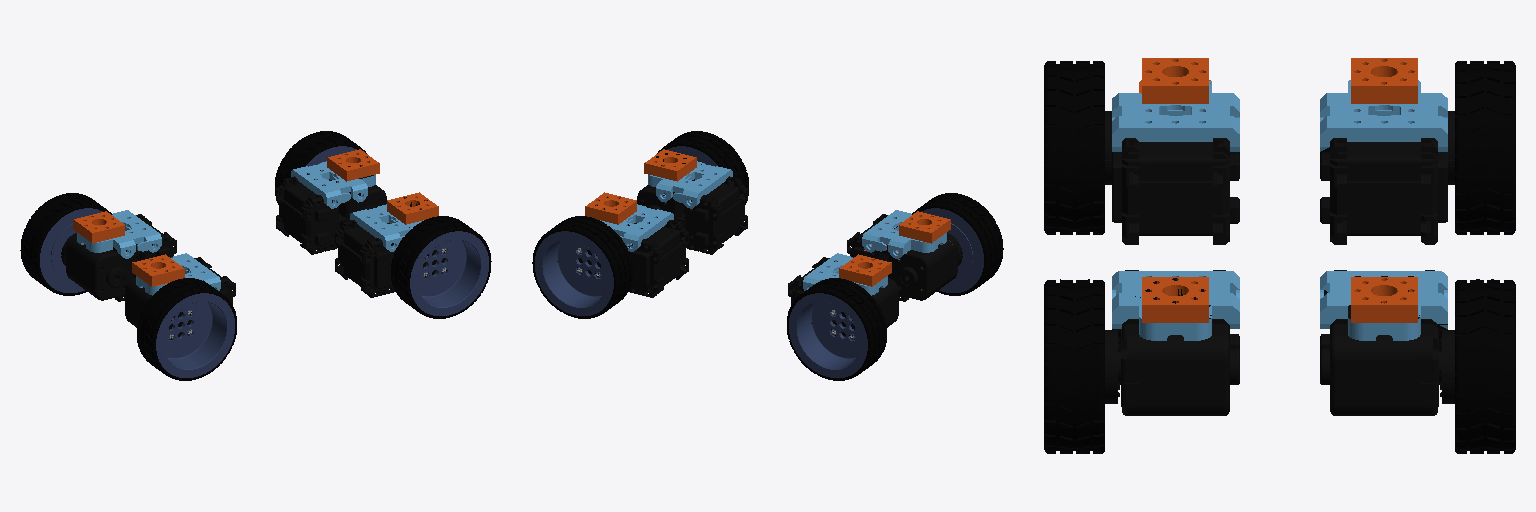
robot.urdf — rs_robot:
<?xml version="1.0" ?>
<!-- =================================================================================== -->
<!-- |    This document was autogenerated by xacro from fourth_robot.urdf.xacro        | -->
<!-- |    EDITING THIS FILE BY HAND IS NOT RECOMMENDED                                 | -->
<!-- =================================================================================== -->
<robot name="rs_robot">
  <!-- =============== Link & Joint =============== -->
  <!-- Base -->
  <link name="base_footprint"/>
  <joint name="base_link_joint" type="fixed">
    <origin xyz="0 0 0"/>
    <parent link="base_footprint"/>
    <child link="base_link"/>
  </joint>
  <link name="base_link">
    <visual>
      <geometry>
        <mesh filename="package://rs_robot_pkg/meshes/DAE/base/base_link.dae"/>
      </geometry>
    </visual>
    <collision>
      <geometry>
        <mesh filename="package://rs_robot_pkg/meshes/STL/base/base_link.stl"/>
      </geometry>
    </collision>
    <inertial>
      <origin xyz="0 0 0.017"/>
      <mass value="1.2"/>
      <inertia ixx="0.0001873" ixy="0" ixz="0" iyy="0.000055" iyz="0" izz="0.0002283"/>
    </inertial>
  </link>
  <joint name="fr_steering_joint" type="revolute">
    <origin xyz="0.077 -0.031 -0.004"/>
    <parent link="base_link"/>
    <child link="fr_steering_link"/>
    <limit effort="5" lower="-2.1" upper="2.1" velocity="6.28"/>
    <axis xyz="0 0 1"/>
  </joint>
  <link name="fr_steering_link">
    <visual>
      <geometry>
        <mesh filename="package://rs_robot_pkg/meshes/DAE/suspension/front_right_link.dae"/>
      </geometry>
    </visual>
    <collision>
      <geometry>
        <mesh filename="package://rs_robot_pkg/meshes/STL/suspension/sus_link.stl"/>
      </geometry>
    </collision>
    <inertial>
      <origin xyz="0 0 -0.02"/>
      <mass value="0.15"/>
      <inertia ixx="0.00001" ixy="0" ixz="0" iyy="0.00001" iyz="0" izz="0.000004"/>
    </inertial>
  </link>
  <joint name="fl_steering_joint" type="revolute">
    <origin xyz="0.077 0.031 -0.004"/>
    <parent link="base_link"/>
    <child link="fl_steering_link"/>
    <limit effort="5" lower="-2.1" upper="2.1" velocity="6.28"/>
    <axis xyz="0 0 1"/>
  </joint>
  <link name="fl_steering_link">
    <visual>
      <geometry>
        <mesh filename="package://rs_robot_pkg/meshes/DAE/suspension/front_left_link.dae"/>
      </geometry>
    </visual>
    <collision>
      <geometry>
        <mesh filename="package://rs_robot_pkg/meshes/STL/suspension/sus_link.stl"/>
      </geometry>
    </collision>
    <inertial>
      <origin xyz="0 0 -0.02"/>
      <mass value="0.15"/>
      <inertia ixx="0.00001" ixy="0" ixz="0" iyy="0.00001" iyz="0" izz="0.000004"/>
    </inertial>
  </link>
  <joint name="rr_steering_joint" type="revolute">
    <origin xyz="-0.077 -0.031 -0.004"/>
    <parent link="base_link"/>
    <child link="rr_steering_link"/>
    <limit effort="5" lower="-2.1" upper="2.1" velocity="6.28"/>
    <axis xyz="0 0 1"/>
  </joint>
  <link name="rr_steering_link">
    <visual>
      <geometry>
        <mesh filename="package://rs_robot_pkg/meshes/DAE/suspension/rear_right_link.dae"/>
      </geometry>
    </visual>
    <collision>
      <geometry>
        <mesh filename="package://rs_robot_pkg/meshes/STL/suspension/sus_link.stl"/>
      </geometry>
    </collision>
    <inertial>
      <origin xyz="0 0 -0.02"/>
      <mass value="0.15"/>
      <inertia ixx="0.00001" ixy="0" ixz="0" iyy="0.00001" iyz="0" izz="0.000004"/>
    </inertial>
  </link>
  <joint name="rl_steering_joint" type="revolute">
    <origin xyz="-0.077 0.031 -0.004"/>
    <parent link="base_link"/>
    <child link="rl_steering_link"/>
    <limit effort="5" lower="-2.1" upper="2.1" velocity="6.28"/>
    <axis xyz="0 0 1"/>
  </joint>
  <link name="rl_steering_link">
    <visual>
      <geometry>
        <mesh filename="package://rs_robot_pkg/meshes/DAE/suspension/rear_left_link.dae"/>
      </geometry>
    </visual>
    <collision>
      <geometry>
        <mesh filename="package://rs_robot_pkg/meshes/STL/suspension/sus_link.stl"/>
      </geometry>
    </collision>
    <inertial>
      <origin xyz="0 0 -0.02"/>
      <mass value="0.15"/>
      <inertia ixx="0.00001" ixy="0" ixz="0" iyy="0.00001" iyz="0" izz="0.000004"/>
    </inertial>
  </link>
  <joint name="fr_wheel_joint" type="continuous">
    <origin xyz="0 -0.021 -0.025"/>
    <parent link="fr_steering_link"/>
    <child link="fr_wheel_link"/>
    <limit effort="1.5" velocity="20"/>
    <axis xyz="0 1 0"/>
  </joint>
  <link name="fr_wheel_link">
    <visual>
      <geometry>
        <mesh filename="package://rs_robot_pkg/meshes/DAE/wheel/wheel_link.dae"/>
      </geometry>
    </visual>
    <collision>
      <geometry>
        <mesh filename="package://rs_robot_pkg/meshes/STL/wheel/robot_wheel.stl"/>
      </geometry>
    </collision>
    <inertial>
      <origin xyz="0.0 -0.007 -0.0"/>
      <mass value="0.05"/>
      <inertia ixx="0.00001" ixy="0" ixz="0" iyy="0.000018" iyz="0" izz="0.00001"/>
    </inertial>
  </link>
  <joint name="fl_wheel_joint" type="continuous">
    <origin rpy="0 0 3.14159274" xyz="0 0.021 -0.025"/>
    <parent link="fl_steering_link"/>
    <child link="fl_wheel_link"/>
    <limit effort="1.5" velocity="20"/>
    <axis xyz="0 -1 0"/>
  </joint>
  <link name="fl_wheel_link">
    <visual>
      <geometry>
        <mesh filename="package://rs_robot_pkg/meshes/DAE/wheel/wheel_link.dae"/>
      </geometry>
    </visual>
    <collision>
      <geometry>
        <mesh filename="package://rs_robot_pkg/meshes/STL/wheel/robot_wheel.stl"/>
      </geometry>
    </collision>
    <inertial>
      <origin xyz="0.0 -0.007 -0.0"/>
      <mass value="0.05"/>
      <inertia ixx="0.00001" ixy="0" ixz="0" iyy="0.000018" iyz="0" izz="0.00001"/>
    </inertial>
  </link>
  <joint name="rr_wheel_joint" type="continuous">
    <origin xyz="0 -0.021 -0.025"/>
    <parent link="rr_steering_link"/>
    <child link="rr_wheel_link"/>
    <limit effort="1.5" velocity="20"/>
    <axis xyz="0 1 0"/>
  </joint>
  <link name="rr_wheel_link">
    <visual>
      <geometry>
        <mesh filename="package://rs_robot_pkg/meshes/DAE/wheel/wheel_link.dae"/>
      </geometry>
    </visual>
    <collision>
      <geometry>
        <mesh filename="package://rs_robot_pkg/meshes/STL/wheel/robot_wheel.stl"/>
      </geometry>
    </collision>
    <inertial>
      <origin xyz="0.0 -0.007 -0.0"/>
      <mass value="0.05"/>
      <inertia ixx="0.00001" ixy="0" ixz="0" iyy="0.000018" iyz="0" izz="0.00001"/>
    </inertial>
  </link>
  <joint name="rl_wheel_joint" type="continuous">
    <origin rpy="0 0 3.14159274" xyz="0 0.021 -0.025"/>
    <parent link="rl_steering_link"/>
    <child link="rl_wheel_link"/>
    <limit effort="1.5" velocity="20"/>
    <axis xyz="0 -1 0"/>
  </joint>
  <link name="rl_wheel_link">
    <visual>
      <geometry>
        <mesh filename="package://rs_robot_pkg/meshes/DAE/wheel/wheel_link.dae"/>
      </geometry>
    </visual>
    <collision>
      <geometry>
        <mesh filename="package://rs_robot_pkg/meshes/STL/wheel/robot_wheel.stl"/>
      </geometry>
    </collision>
    <inertial>
      <origin xyz="0.0 -0.007 -0.0"/>
      <mass value="0.05"/>
      <inertia ixx="0.00001" ixy="0" ixz="0" iyy="0.000018" iyz="0" izz="0.00001"/>
    </inertial>
  </link>

</robot>

--- Facts derived from the render (not from the file) ---
3 views of the same robot in one strip: view 1: azimuth 30°, elevation 25°; view 2: azimuth 150°, elevation 25°; view 3: azimuth 270°, elevation 25° (orthographic).
Model rs_robot with 10 links and 9 joints (4 revolute, 4 continuous, 1 fixed), rooted at base_footprint, posed all joints at 0.
Links seen in each view (by area): view 1: fr_wheel_link, rr_wheel_link, fl_steering_link, rl_steering_link, fr_steering_link, rl_wheel_link, rr_steering_link, fl_wheel_link; view 2: rl_wheel_link, fl_wheel_link, fr_steering_link, rr_steering_link, fl_steering_link, rr_wheel_link, rl_steering_link, fr_wheel_link; view 3: rr_steering_link, rl_steering_link, fr_steering_link, fl_steering_link, fl_wheel_link, fr_wheel_link, rr_wheel_link, rl_wheel_link.
Boxes of the visible links, box(x1,y1,x2,y2) form: fr_wheel_link: box(391, 216, 491, 318); rr_wheel_link: box(137, 278, 236, 380); fl_steering_link: box(276, 149, 386, 254); rl_steering_link: box(61, 210, 176, 301); fr_steering_link: box(335, 192, 445, 297); rl_wheel_link: box(20, 193, 111, 295); rr_steering_link: box(125, 253, 235, 336); fl_wheel_link: box(275, 131, 366, 204); rl_wheel_link: box(787, 278, 886, 380); fl_wheel_link: box(532, 216, 632, 318); fr_steering_link: box(637, 149, 747, 254); rr_steering_link: box(847, 210, 962, 301); fl_steering_link: box(578, 192, 688, 297); rr_wheel_link: box(912, 193, 1003, 295); rl_steering_link: box(788, 253, 898, 336); fr_wheel_link: box(657, 131, 748, 204); rr_steering_link: box(1105, 58, 1239, 244); rl_steering_link: box(1320, 58, 1454, 244); fr_steering_link: box(1105, 270, 1239, 415); fl_steering_link: box(1320, 270, 1454, 415); fl_wheel_link: box(1455, 279, 1515, 453); fr_wheel_link: box(1044, 279, 1104, 453); rr_wheel_link: box(1044, 61, 1104, 234); rl_wheel_link: box(1455, 61, 1515, 234).
Bounding box of the posed robot: 0.206 × 0.14 × 0.052 m (x, y, z).
8 mesh visuals loaded from 6 distinct referenced files (5 Collada DAE); not drawn: 1 (reference not matched to a file when rendering).